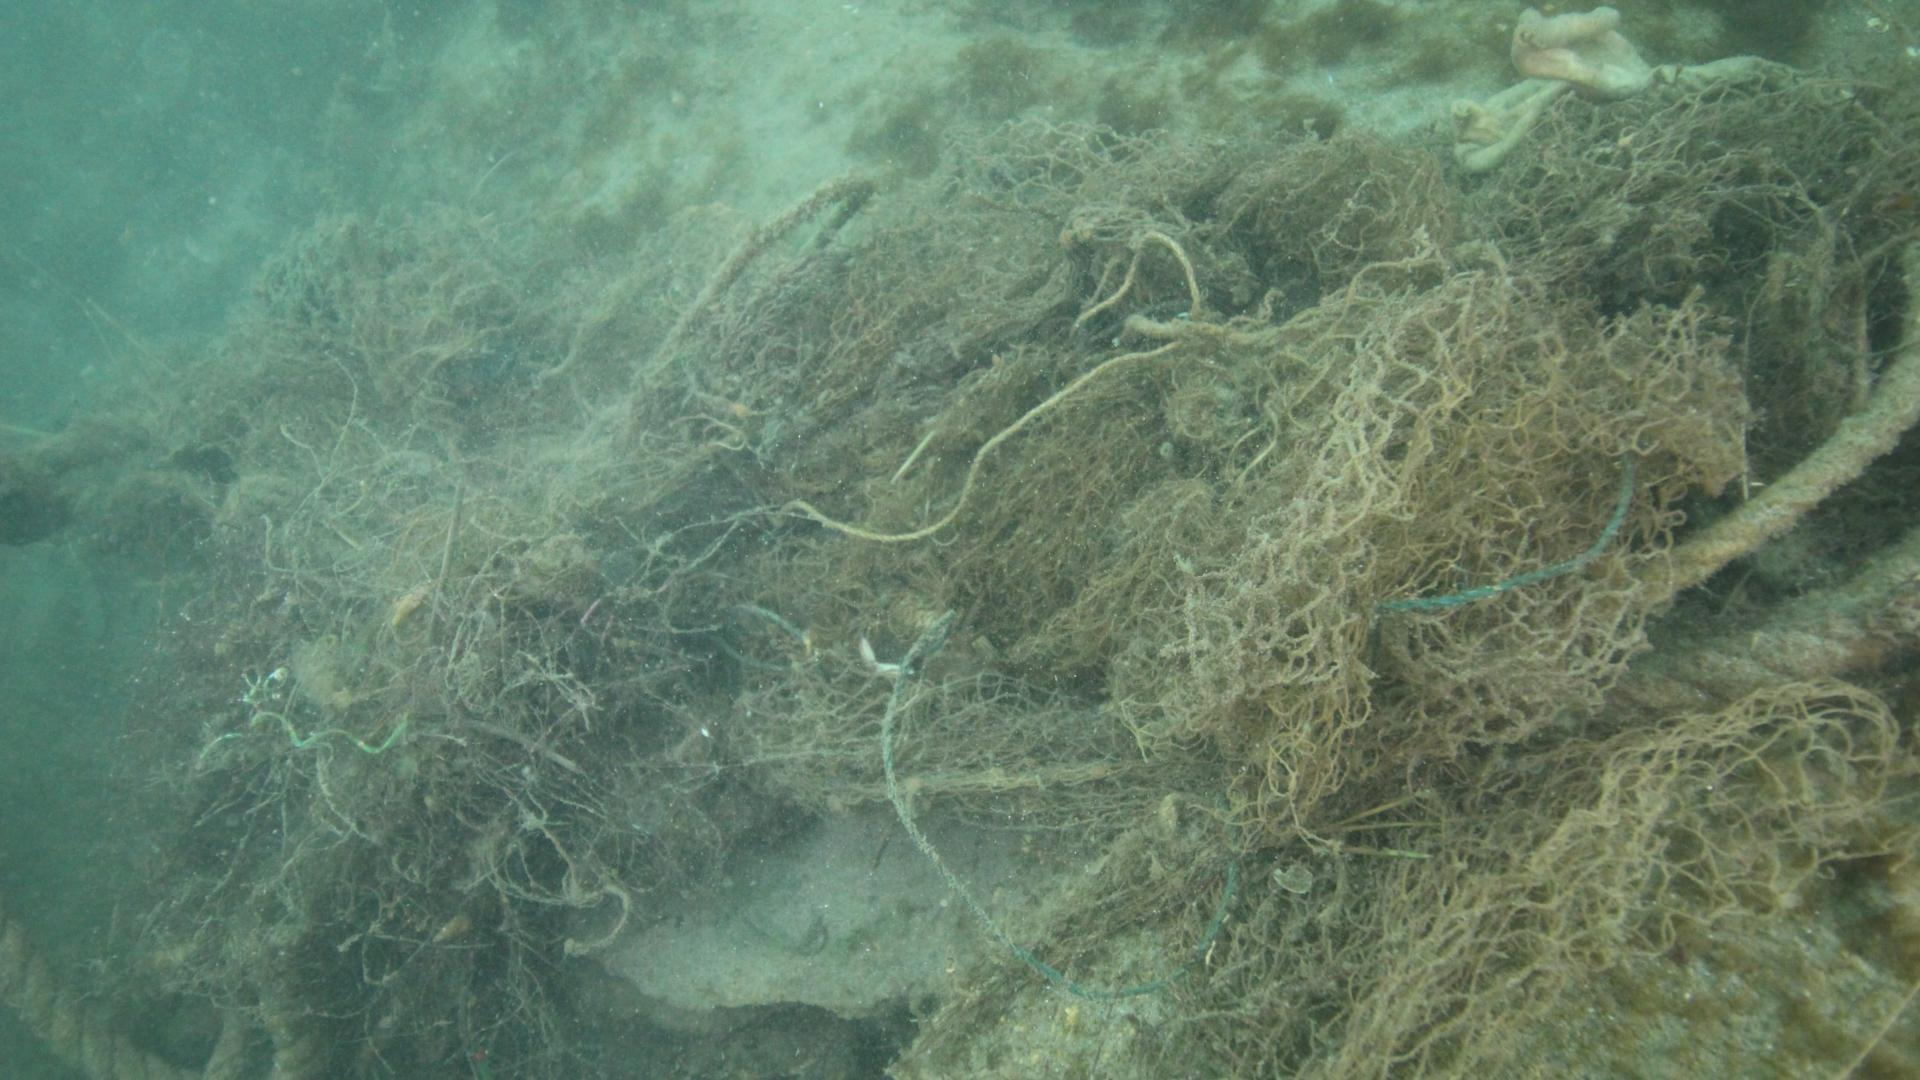bundle of ropes: (0, 895, 326, 1080)
rope: (1631, 240, 1920, 605), (1538, 531, 1920, 728)
